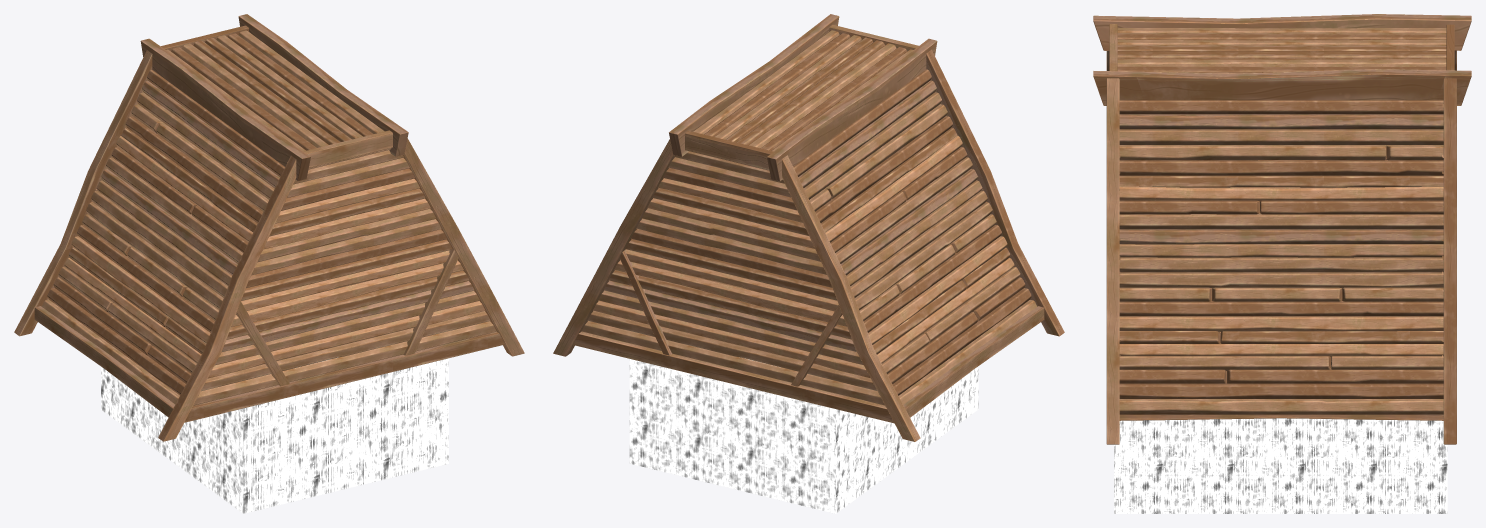
File: SM_BuildingBase_02.fbx
3 views of the same model, side by side, from view 1: azimuth 30°, elevation 25°; view 2: azimuth 150°, elevation 25°; view 3: azimuth 270°, elevation 25° (orthographic). The views are drawn at different scales.
Parts seen in each view (by area): view 1: SM_BuildingBase_02_LOD0; view 2: SM_BuildingBase_02_LOD0; view 3: SM_BuildingBase_02_LOD0.
Boxes of the visible parts, <box> form: SM_BuildingBase_02_LOD0: <box>14,14,524,513</box>; SM_BuildingBase_02_LOD0: <box>553,14,1064,513</box>; SM_BuildingBase_02_LOD0: <box>1093,14,1471,513</box>.
Size of the model in its own units: 1759 by 1361 by 1634.
3 materials, 3 textured.
